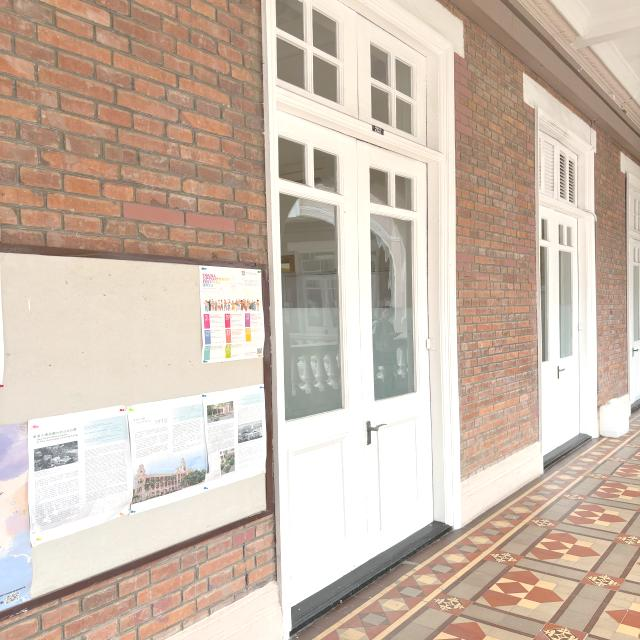MB202_roomNum: (370, 122, 386, 138)
